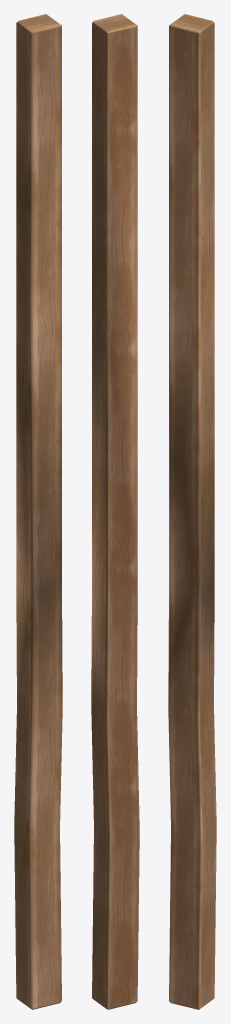
Rendered from SM_Beam.gltf.
3 views of the same model, side by side, from view 1: azimuth 30°, elevation 25°; view 2: azimuth 210°, elevation 25°; view 3: azimuth 330°, elevation 25° (orthographic).
Parts seen in each view (by area): view 1: SM_Beam_LOD0; view 2: SM_Beam_LOD0; view 3: SM_Beam_LOD0.
Boxes of the visible parts, x1=… form: SM_Beam_LOD0: x1=14, y1=14, x2=62, y2=1009; SM_Beam_LOD0: x1=91, y1=14, x2=139, y2=1009; SM_Beam_LOD0: x1=168, y1=14, x2=216, y2=1009.
Size of what is drawn, in the model's own units: 0.34 by 10.03 by 0.3511.
1 material, 1 textured.
